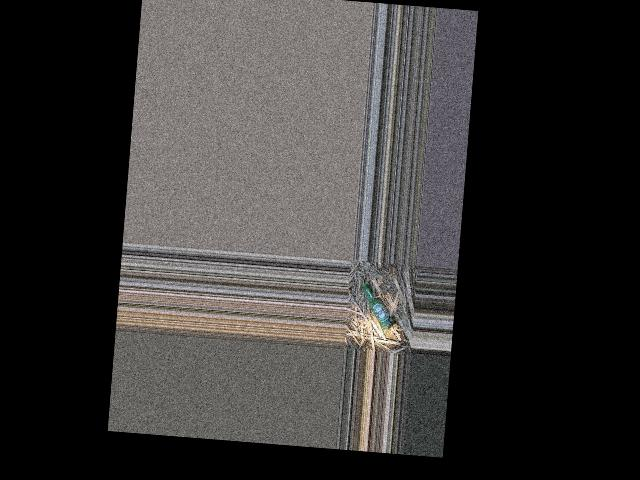beer: (359, 283, 398, 330)
